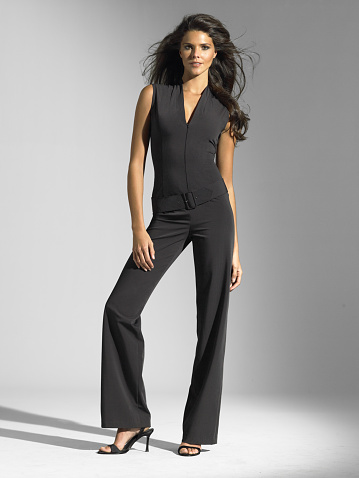em pe: (89, 7, 263, 474)
